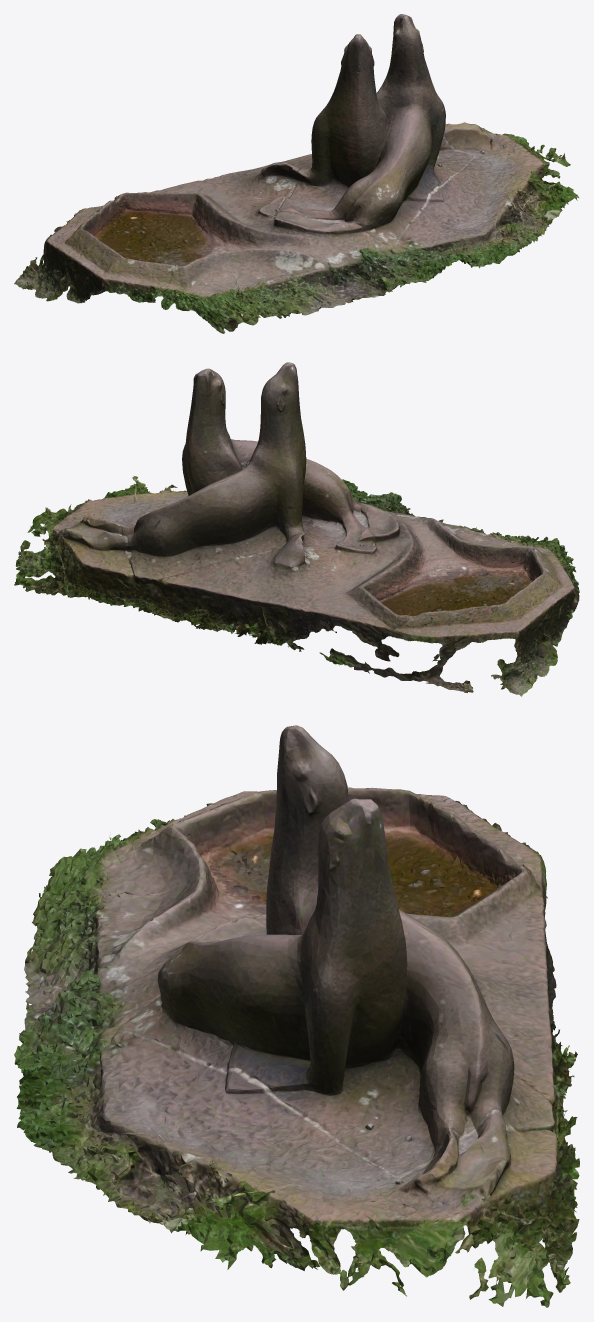
3 renders of one model, top to bottom at view 1: azimuth 30°, elevation 25°; view 2: azimuth 150°, elevation 25°; view 3: azimuth 270°, elevation 25°, orthographic. The views are drawn at different scales.
Parts seen in each view (by area): view 1: 1k.25k; view 2: 1k.25k; view 3: 1k.25k.
Part boxes in pixels (bbox=[...]): 1k.25k: bbox=[14, 14, 578, 333]; 1k.25k: bbox=[14, 362, 579, 696]; 1k.25k: bbox=[14, 725, 579, 1307].
Size of the model in its own units: 5.02 by 2.09 by 2.61.
Materials: 1 (1 with a texture image).
